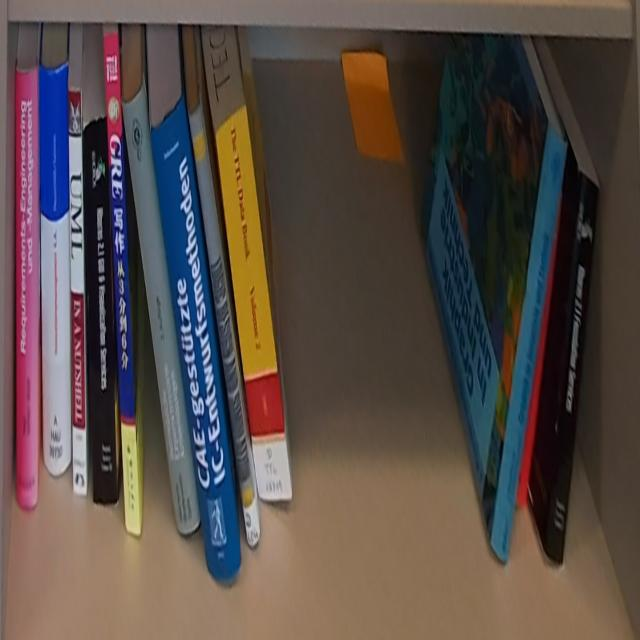Book Spine: (151, 89, 245, 585), (120, 75, 199, 540), (488, 116, 569, 569), (213, 100, 293, 506), (189, 99, 260, 554), (100, 29, 143, 550), (545, 169, 599, 568), (82, 115, 118, 505), (39, 59, 70, 481), (13, 62, 39, 510), (69, 85, 87, 497)
